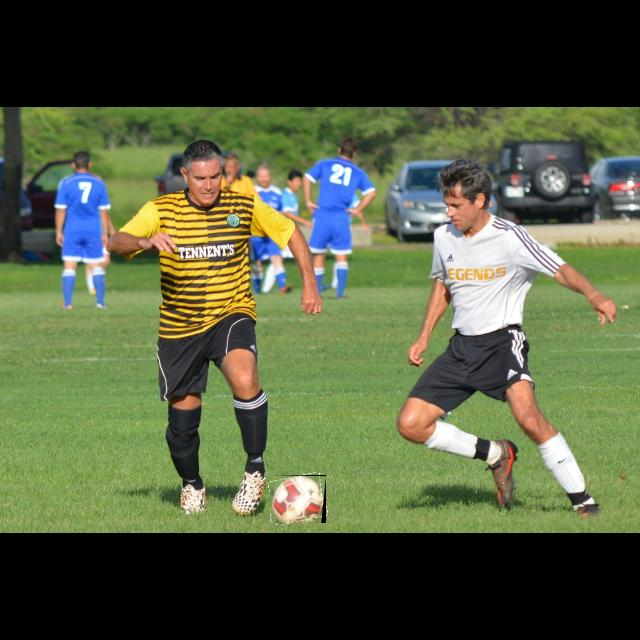Football: (270, 475, 326, 523)
